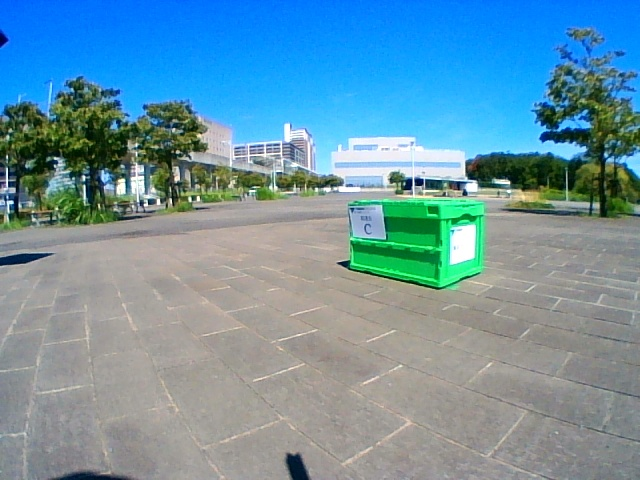green_box: (349, 199, 481, 290)
tag_c: (351, 208, 383, 238)
